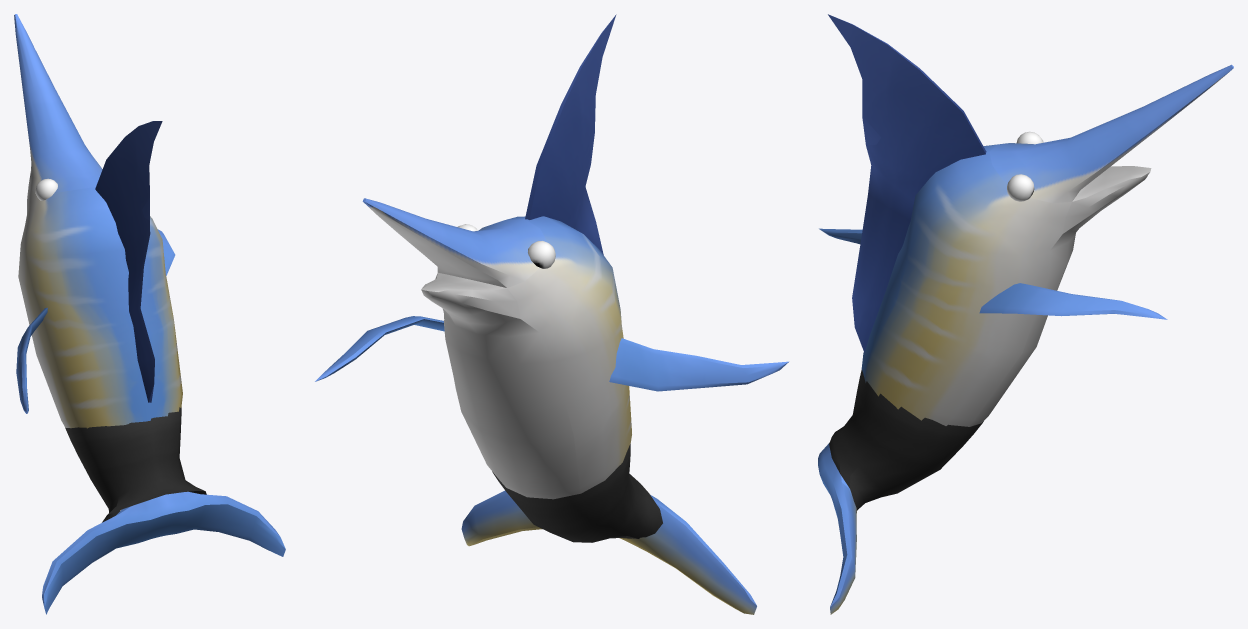
Rendered from kajiki_walk_a_05.fbx.
3 renders of one model, left to right at view 1: azimuth 30°, elevation 25°; view 2: azimuth 150°, elevation 25°; view 3: azimuth 270°, elevation 25°, orthographic. The views are drawn at different scales.
Visible parts, largest first — view 1: w_a_05; view 2: w_a_05; view 3: w_a_05.
Boxes of the visible parts, x1,y1,x2,y2 form: w_a_05: [14, 14, 285, 614]; w_a_05: [315, 14, 788, 614]; w_a_05: [818, 14, 1233, 614].
Size of the model in its own units: 1.49 by 2.53 by 1.79.
Materials: 1 (1 with a texture image).
